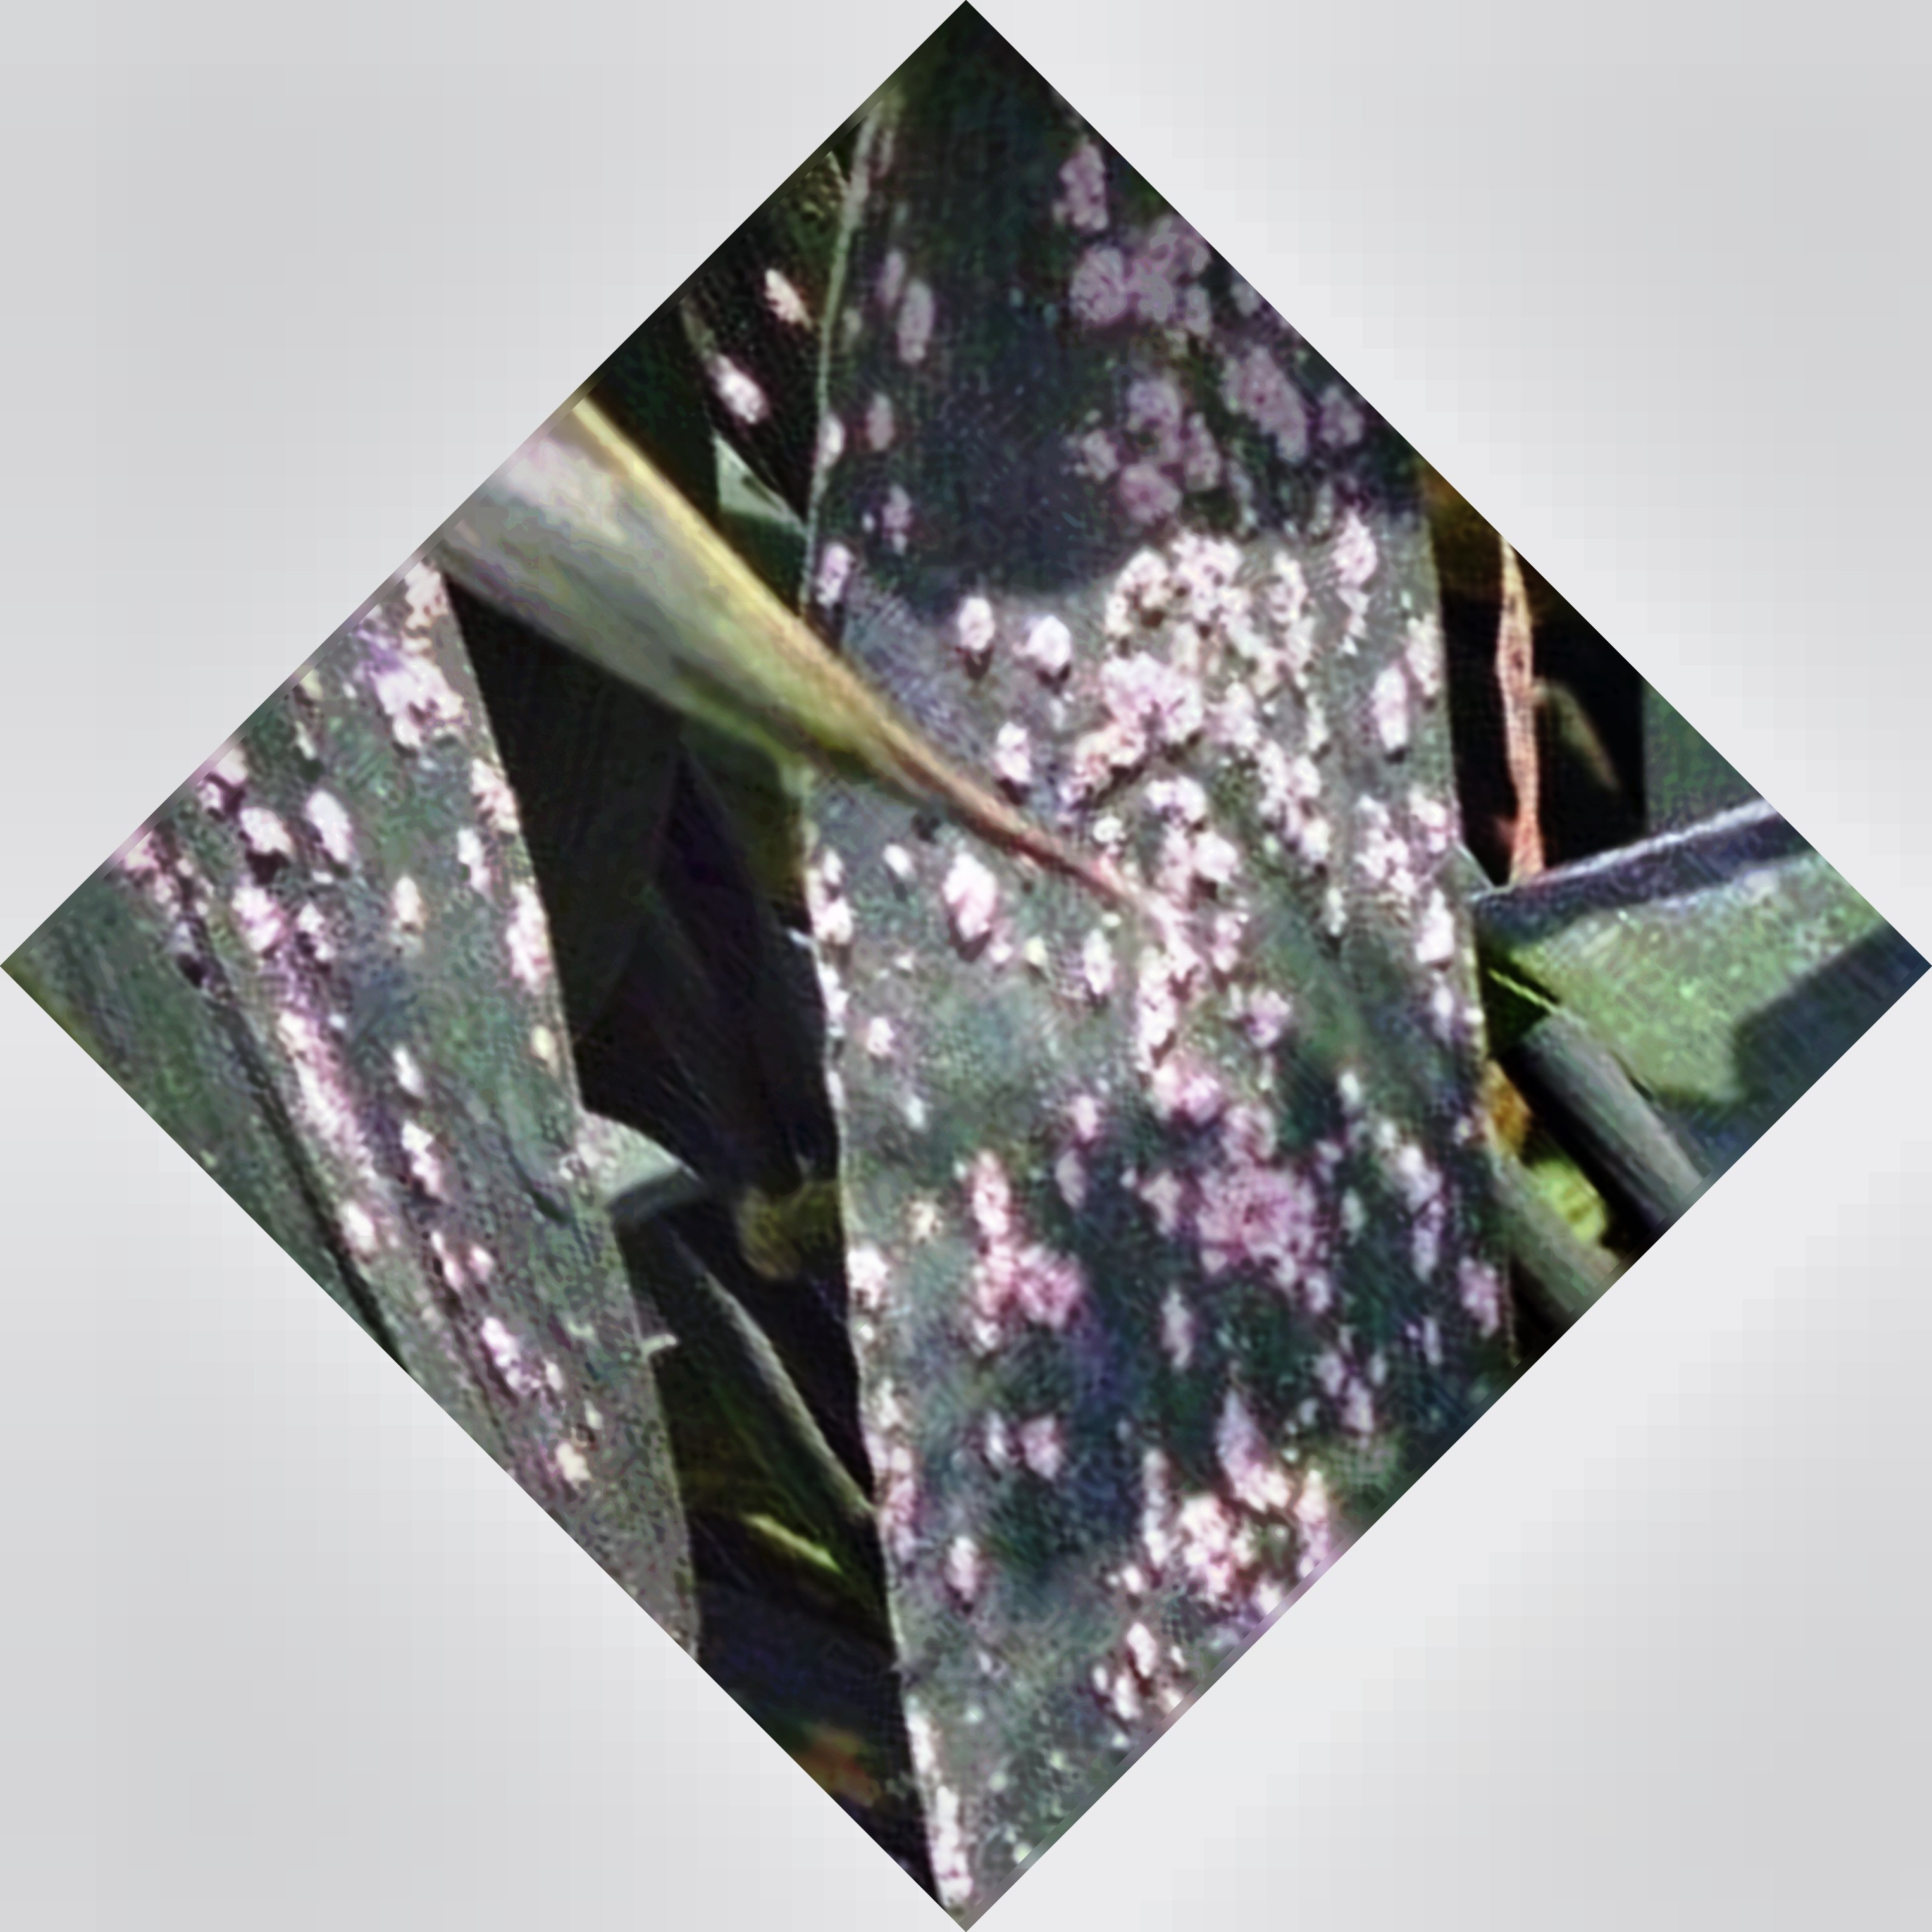Powdery Mildew: (789, 253, 1541, 1638)
